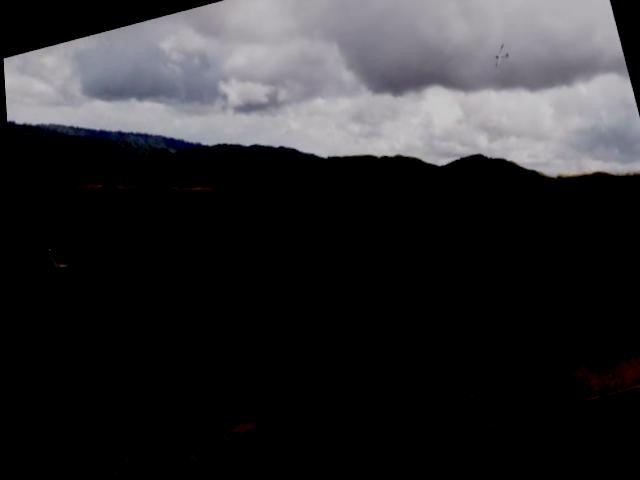iha: (486, 51, 514, 76)
